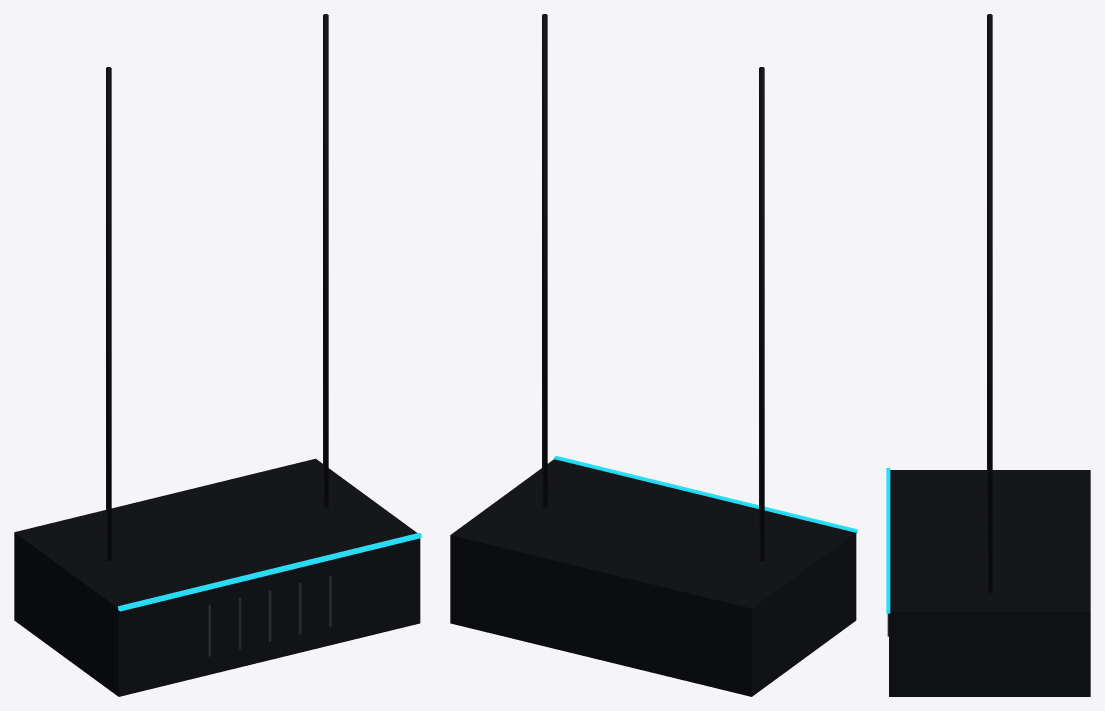
Rendered from Light_PendantBox.glb.
The picture shows the model from 3 angles, left to right: view 1: azimuth 30°, elevation 25°; view 2: azimuth 150°, elevation 25°; view 3: azimuth 270°, elevation 25°; orthographic projection. The views are drawn at different scales.
Parts seen in each view (by area): view 1: Light_PendantBox; view 2: Light_PendantBox; view 3: Light_PendantBox.
Boxes of the visible parts, x1,y1,x2,y2 form: Light_PendantBox: [14, 14, 421, 696]; Light_PendantBox: [450, 14, 857, 696]; Light_PendantBox: [886, 14, 1090, 696].
Size of the model in its own units: 0.5 by 0.926 by 0.304.
